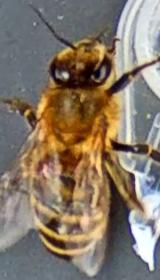varroa_mite: (32, 148, 62, 180)
